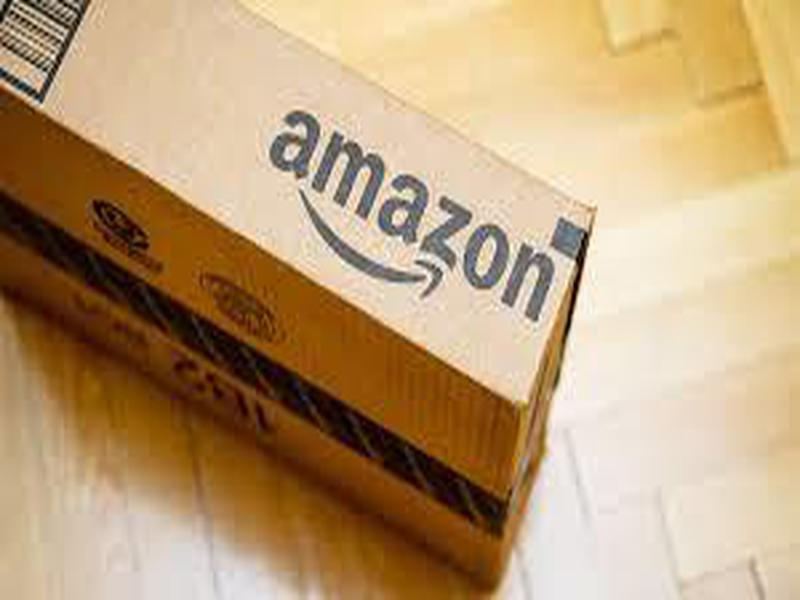package: (21, 18, 606, 581)
